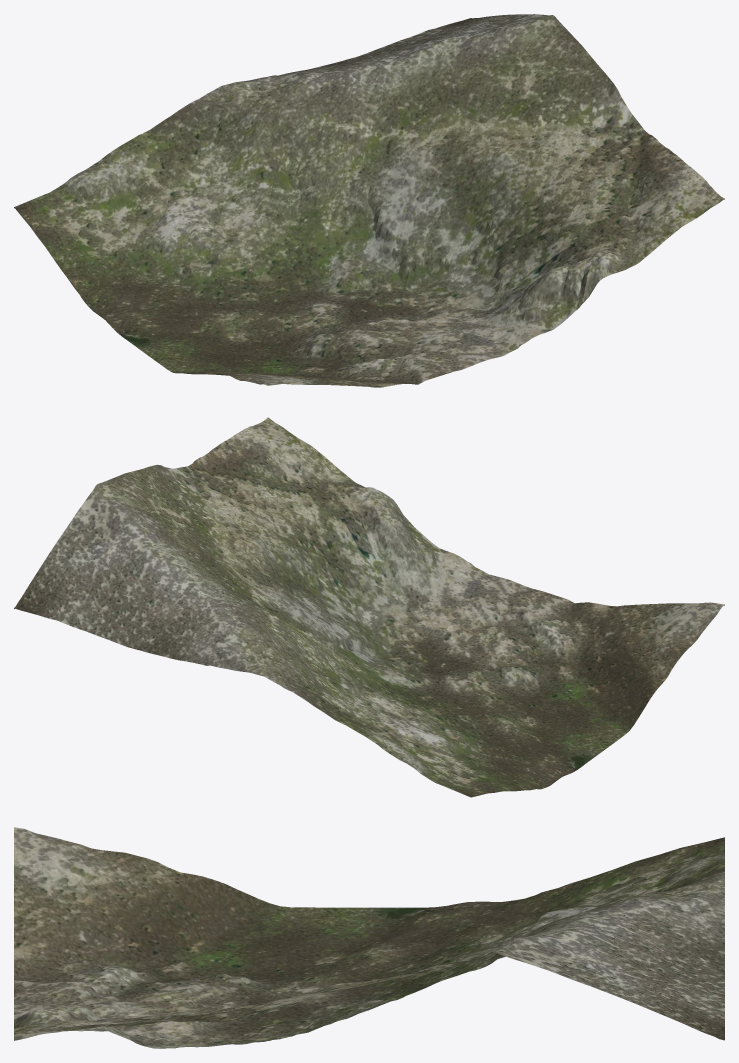
The picture shows the model from 3 angles, top to bottom: view 1: azimuth 30°, elevation 25°; view 2: azimuth 150°, elevation 25°; view 3: azimuth 270°, elevation 25°; orthographic projection. The views are drawn at different scales.
Bounding box in the file's own units: 1000 × 402 × 963.
1 material, 1 textured.
